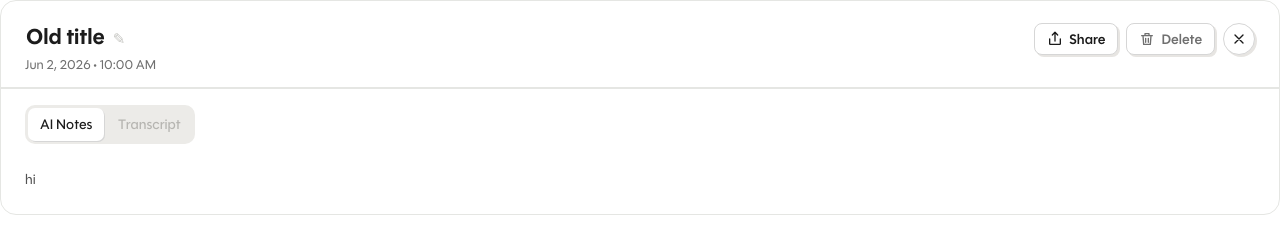
Test: MeetingDetailView inline title editing › renames a local recording via the backend with the same inline UX
Click the button with class "head-title".
click(76, 37)  # box [17,20,134,54]
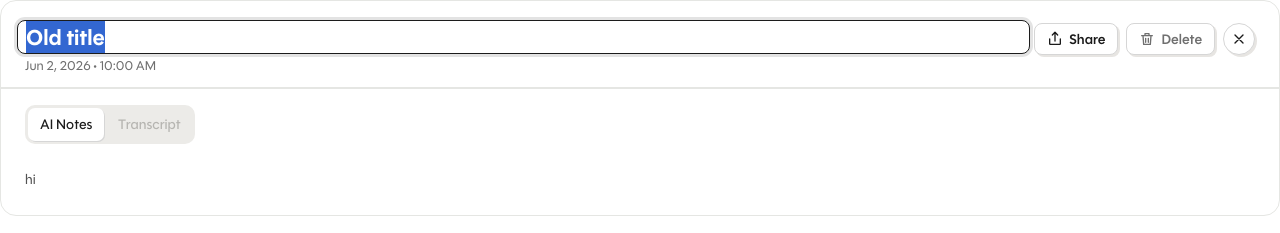
Now the field with class "head-title--input" is shown
Replace the text in the field with class "head-title--input" with "Renamed local" at [523, 37], box [17,20,1030,54]
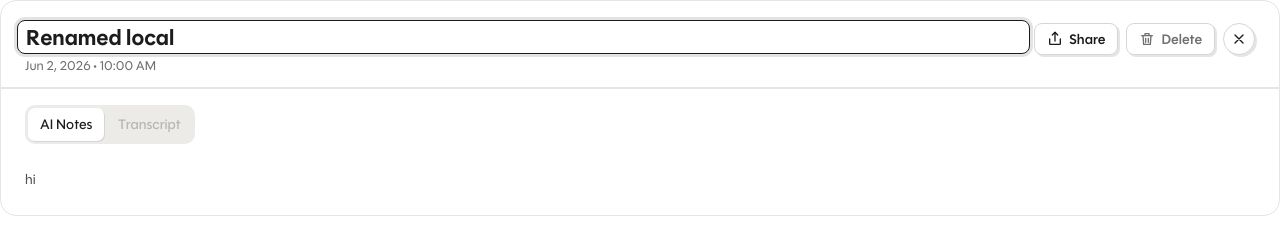
Press Enter in the field with class "head-title--input", box [17,20,1030,54]
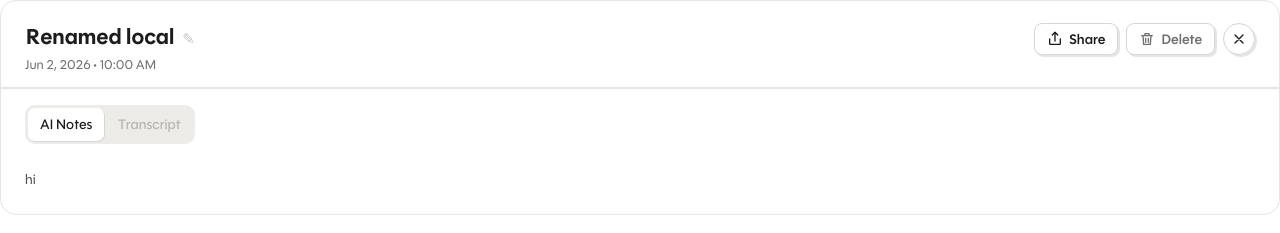
Now the button with class "head-title" reads "Renamed local", box [26,20,174,53]
